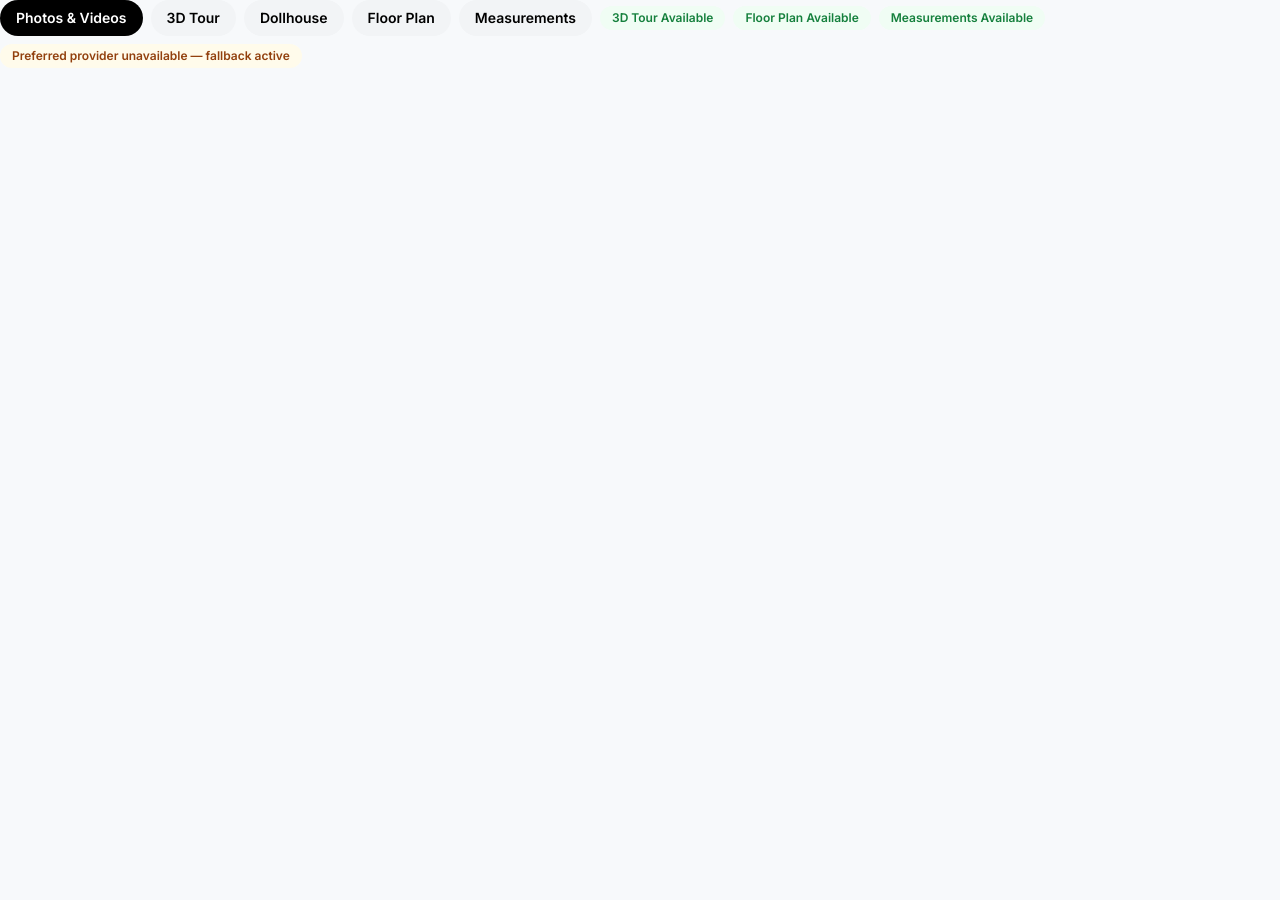
Scenario: VirtualTourExperience › closes the virtual-tour modal, restores page scrolling, and returns focus to its launcher
Click the button "3D Tour". click: (193, 18)
box: [151,0,236,36]
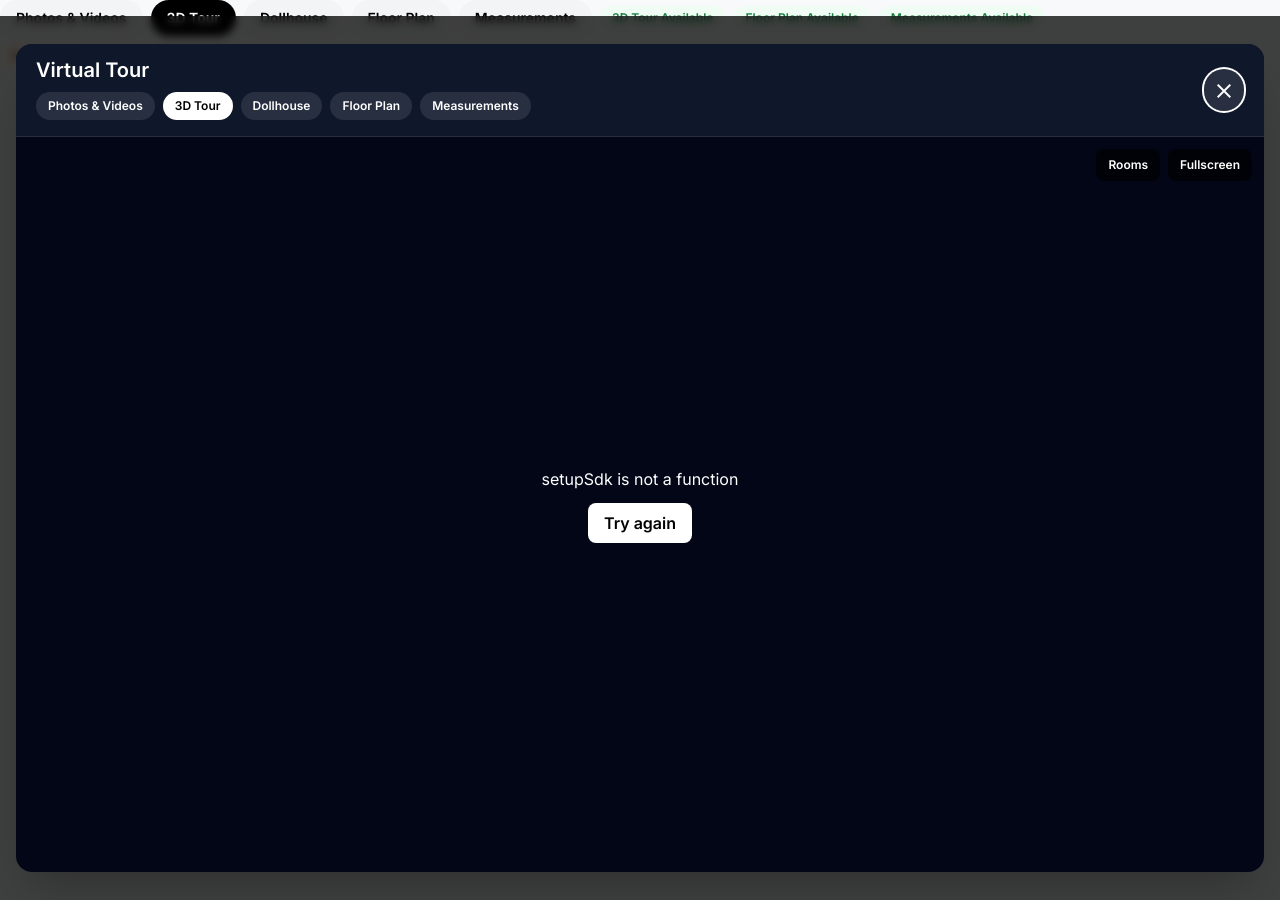
Check: the dialog "Virtual Tour" is shown
Click the button named "Close virtual tour". click: (1224, 90)
box: [1204,69,1244,111]
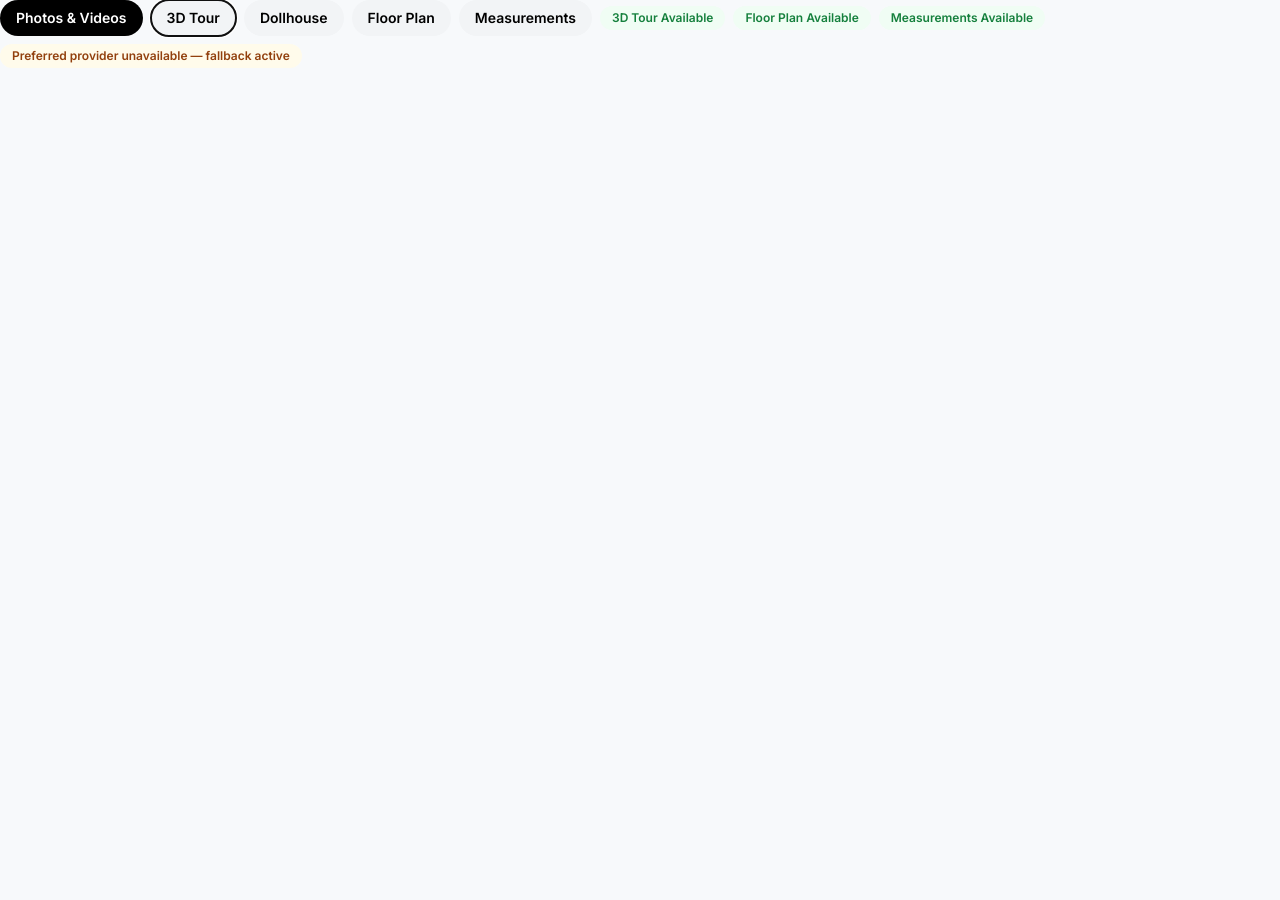
Check: the heading "Virtual Tour" is gone
